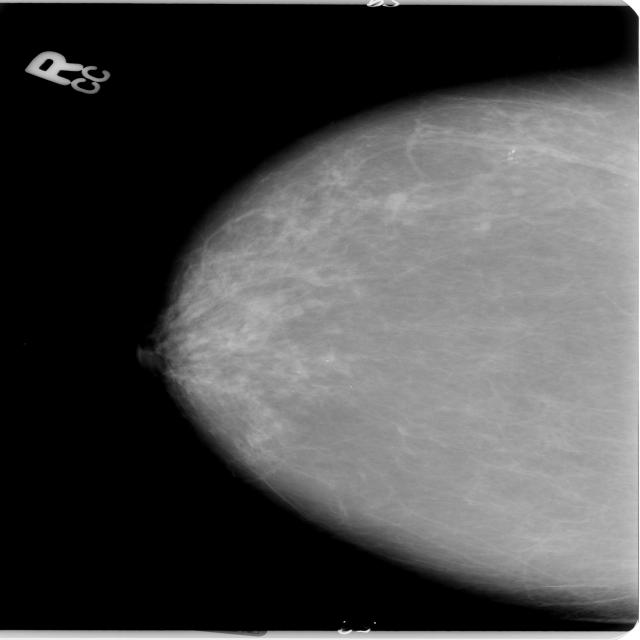normal: (94, 53, 640, 593)
